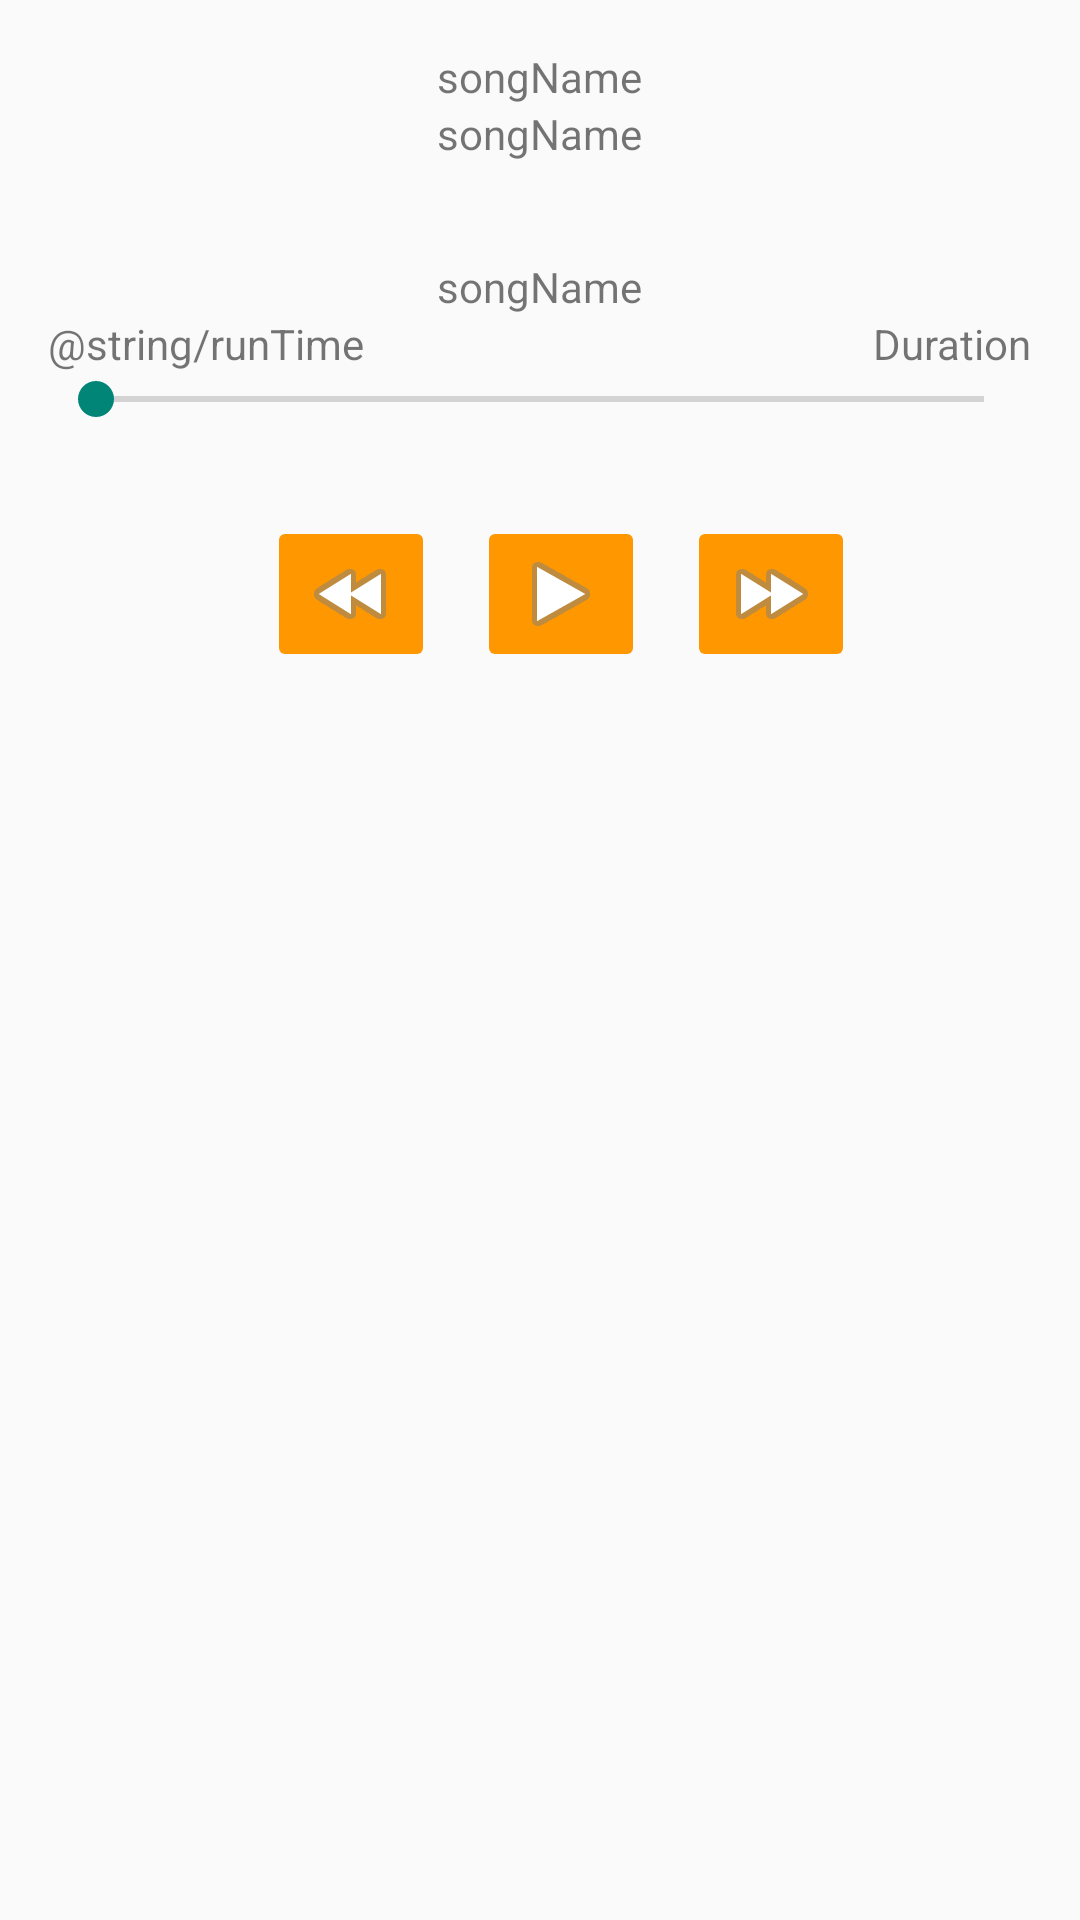

Icons on this 1080w x 1920h Android screen, each with its box as (x1, y1, x2, y2):
play: (489, 534, 633, 654)
rew: (279, 534, 423, 654)
